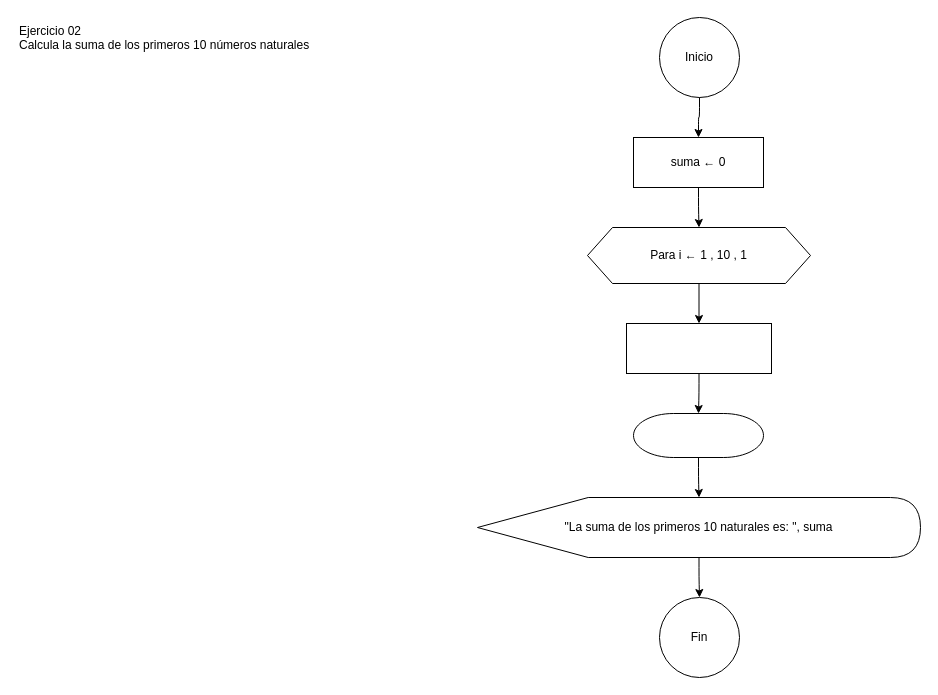
Some shapes in this 938 by 695 pixel diagram are drawn without their labels. The shapes that lost their labels are listed below. From the top down, each one's centre as x and y in pixels, then its label:
At pixel 699 348: "suma ← suma + i".
At pixel 698 435: "Fin (Para)".
